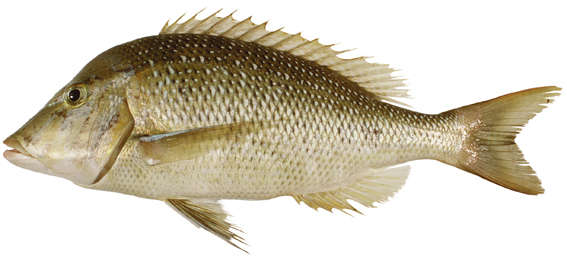fish: (3, 8, 563, 255)
